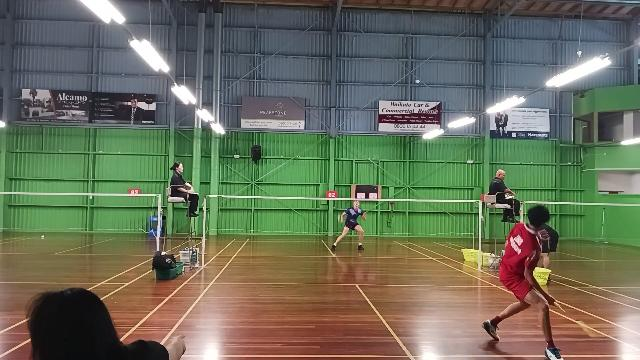Shuttlecock: (413, 76, 421, 86)
